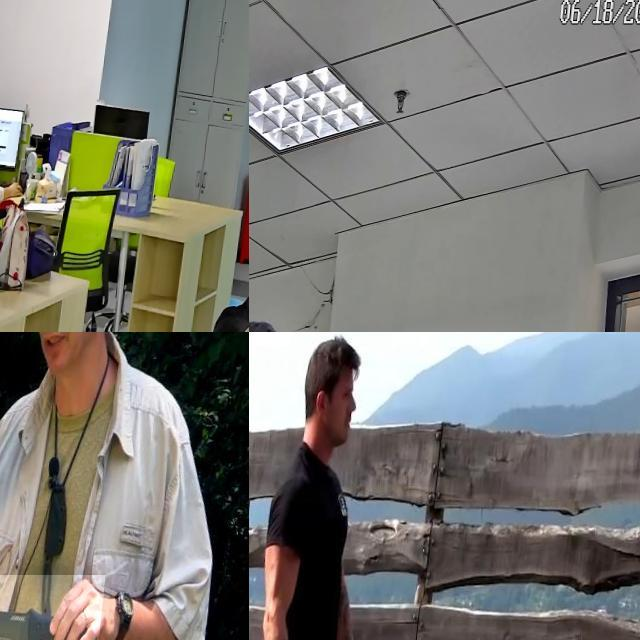-: (0, 575, 115, 640)
gun-knife-thesis - v11 Yolov5 augmented: (249, 193, 280, 332)
